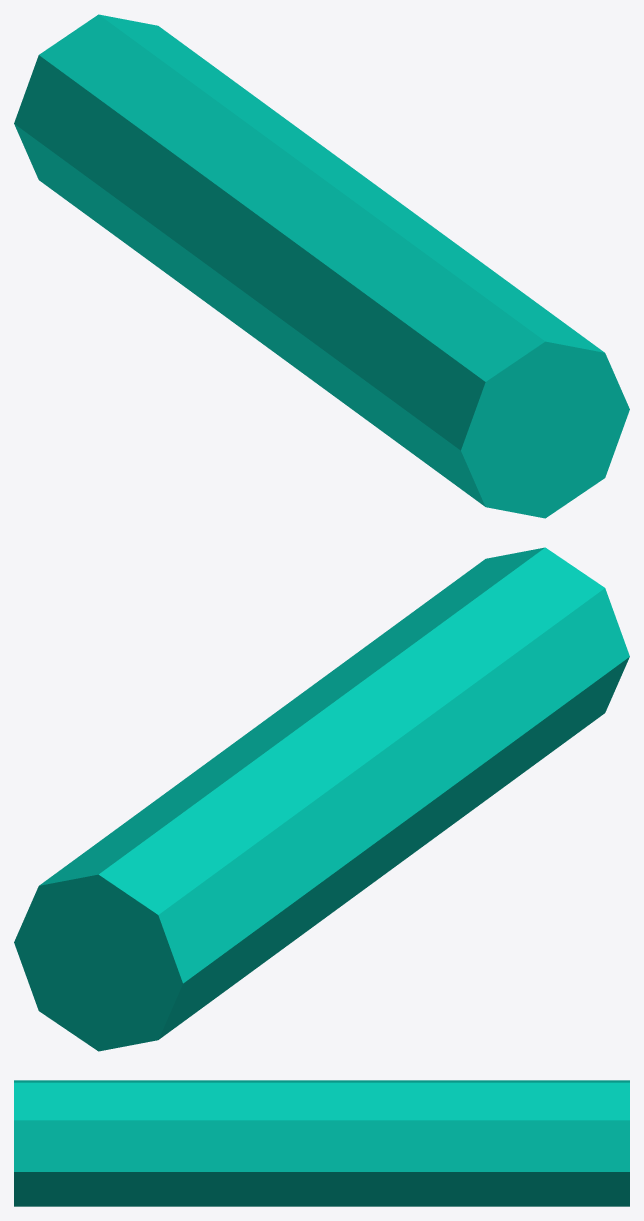
The model's file is RG_BatteryCore.obj.
3 views of the same model, one above another, from view 1: azimuth 30°, elevation 25°; view 2: azimuth 150°, elevation 25°; view 3: azimuth 270°, elevation 25° (orthographic). The views are drawn at different scales.
Visible parts, largest first — view 1: BatteryCore.001; view 2: BatteryCore.001; view 3: BatteryCore.001.
Part boxes in pixels (left/top/right/bottom): BatteryCore.001: left=14, top=14, right=629, bottom=518; BatteryCore.001: left=14, top=547, right=629, bottom=1051; BatteryCore.001: left=14, top=1080, right=629, bottom=1206.
Size of the model in its own units: 0.035 by 0.035 by 0.16.
